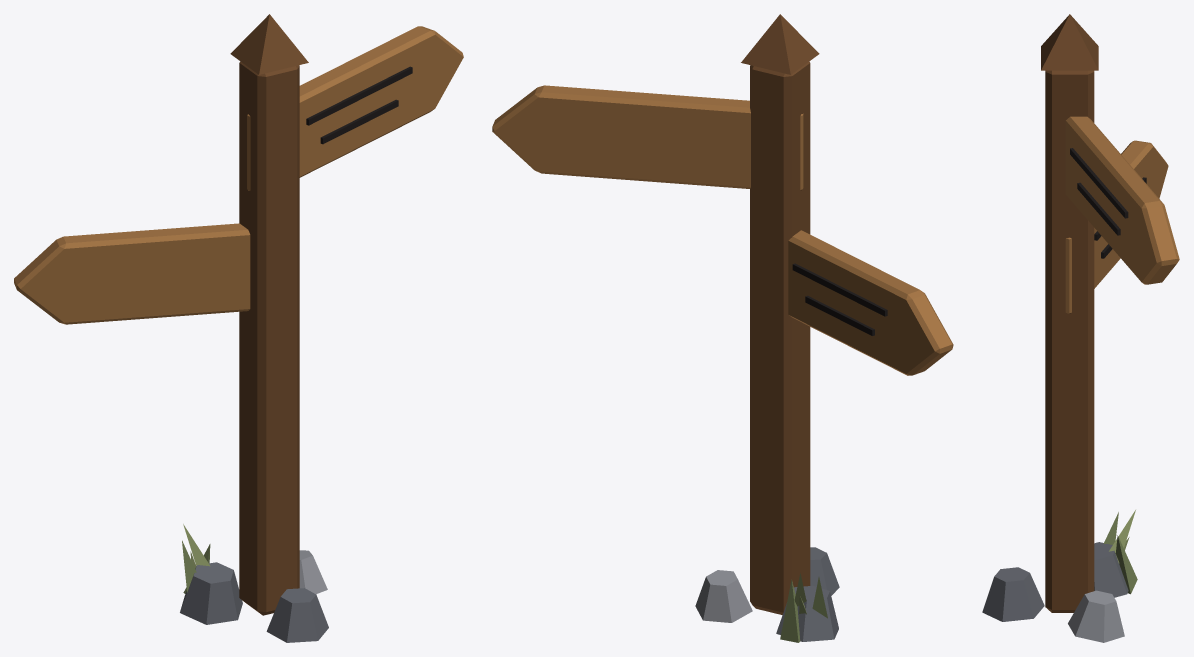
Rendered from Signpost.fbx.
The picture shows the model from 3 angles, left to right: view 1: azimuth 30°, elevation 25°; view 2: azimuth 150°, elevation 25°; view 3: azimuth 270°, elevation 25°; orthographic projection.
Parts seen in each view (by area): view 1: Signpost; view 2: Signpost; view 3: Signpost.
Part boxes in pixels (x1,y1,x2,y2): Signpost: (14,14,463,642); Signpost: (492,14,953,642); Signpost: (982,14,1179,642).
Size of the model in its own units: 0.6389 by 0.8093 by 0.2422.
